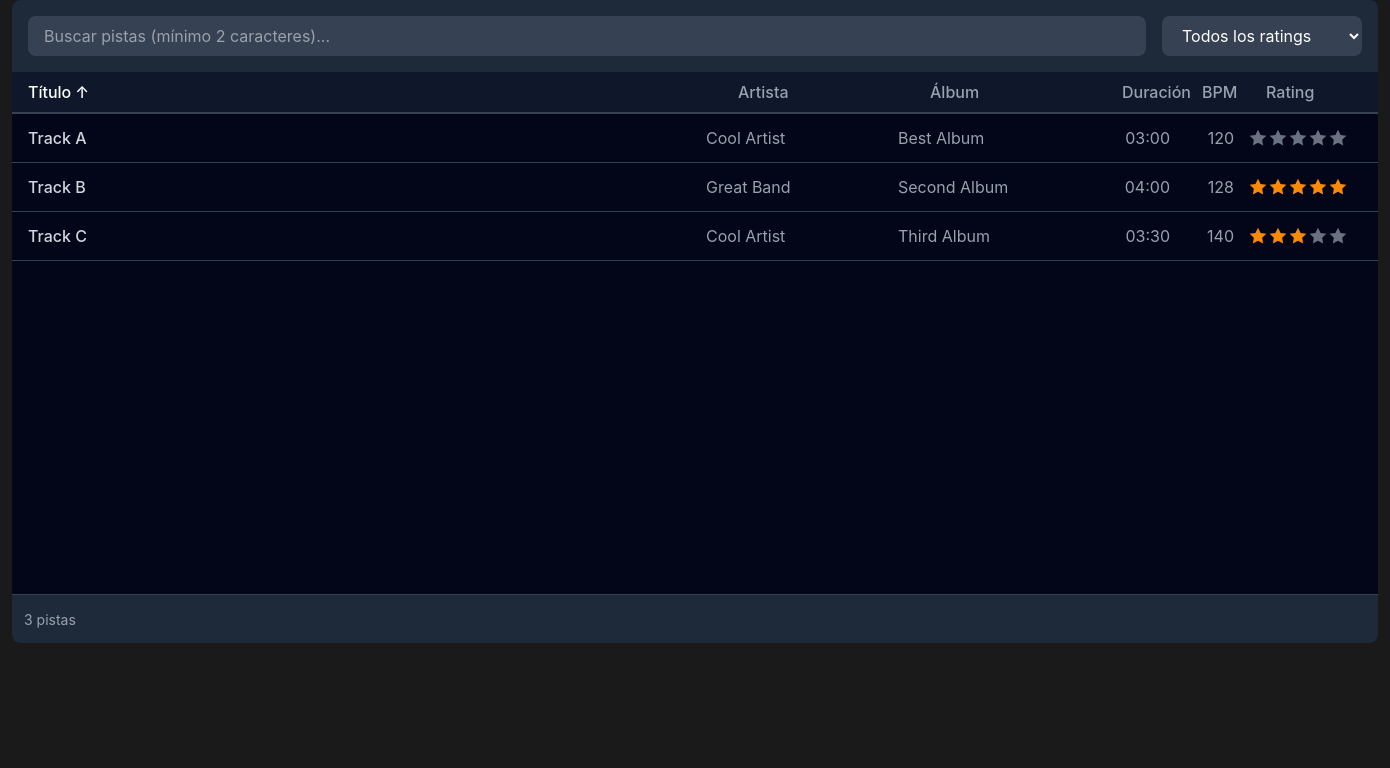
Test: TrackList › debería filtrar pistas sin rating cuando se aplica filtro
Select "★ y superior" in the dropdown named "Filtrar por rating" at (1262, 36), box [1162,16,1362,56]
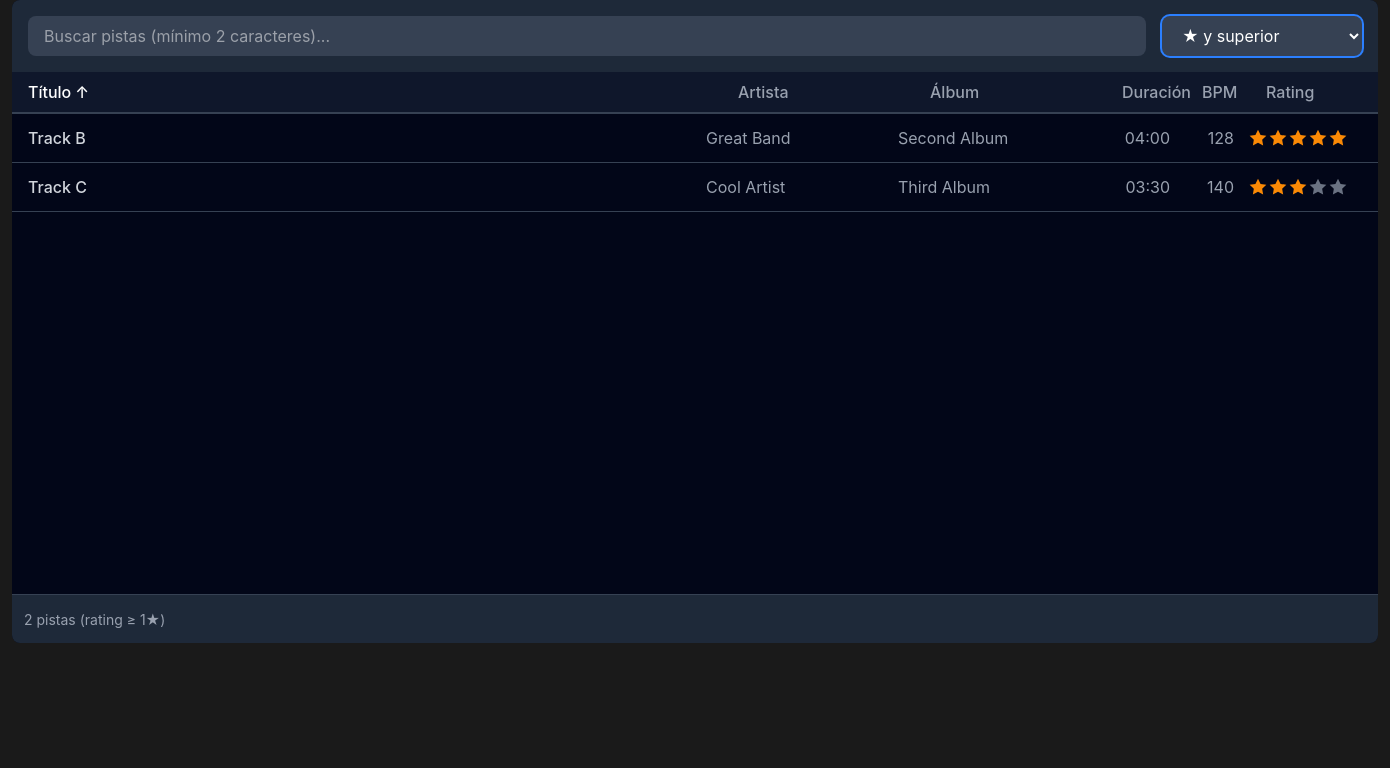
Now the number of rows is 2, box [12,114,1378,163]; [12,163,1378,212]
Now the text "Track A" is gone
